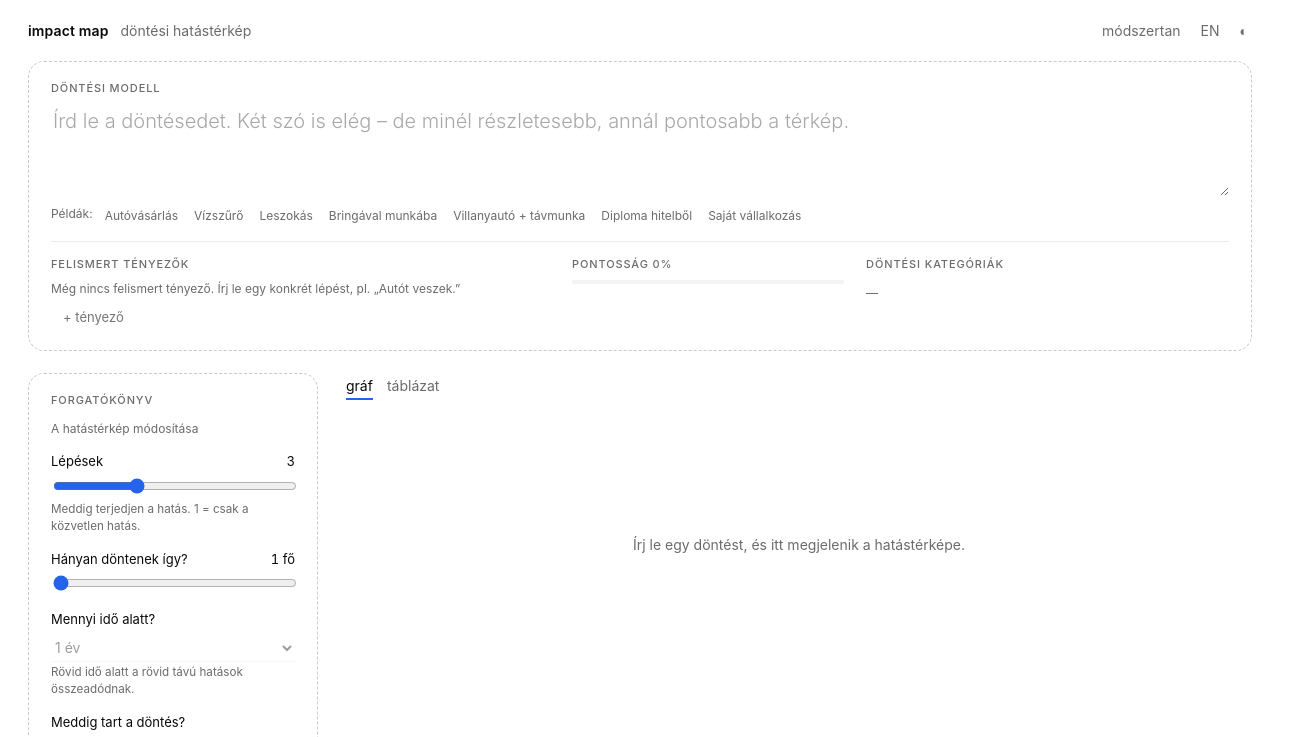
Test: App › shows the table with a change column when many people decide
Replace the text in the text box named "Döntési modell" with "Hetente háromszor edzek az edzőteremben, mert túlsúlyos lettem egy sérülés miatt.". click: (640, 150)
box: [51,104,1229,196]
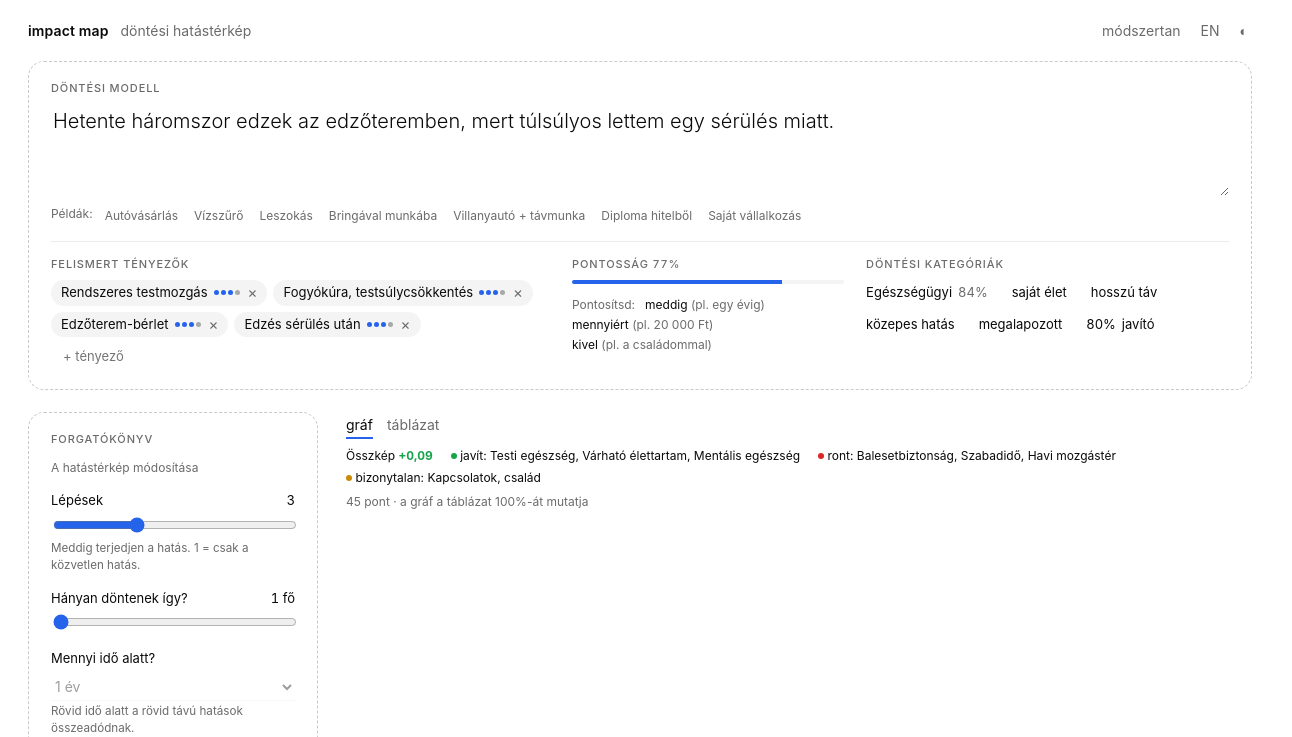
Expected: the text "Rendszeres testmozgás" is shown, [61,283,208,302]
Click the tab "táblázat". click: (413, 425)
box: [387,412,439,438]
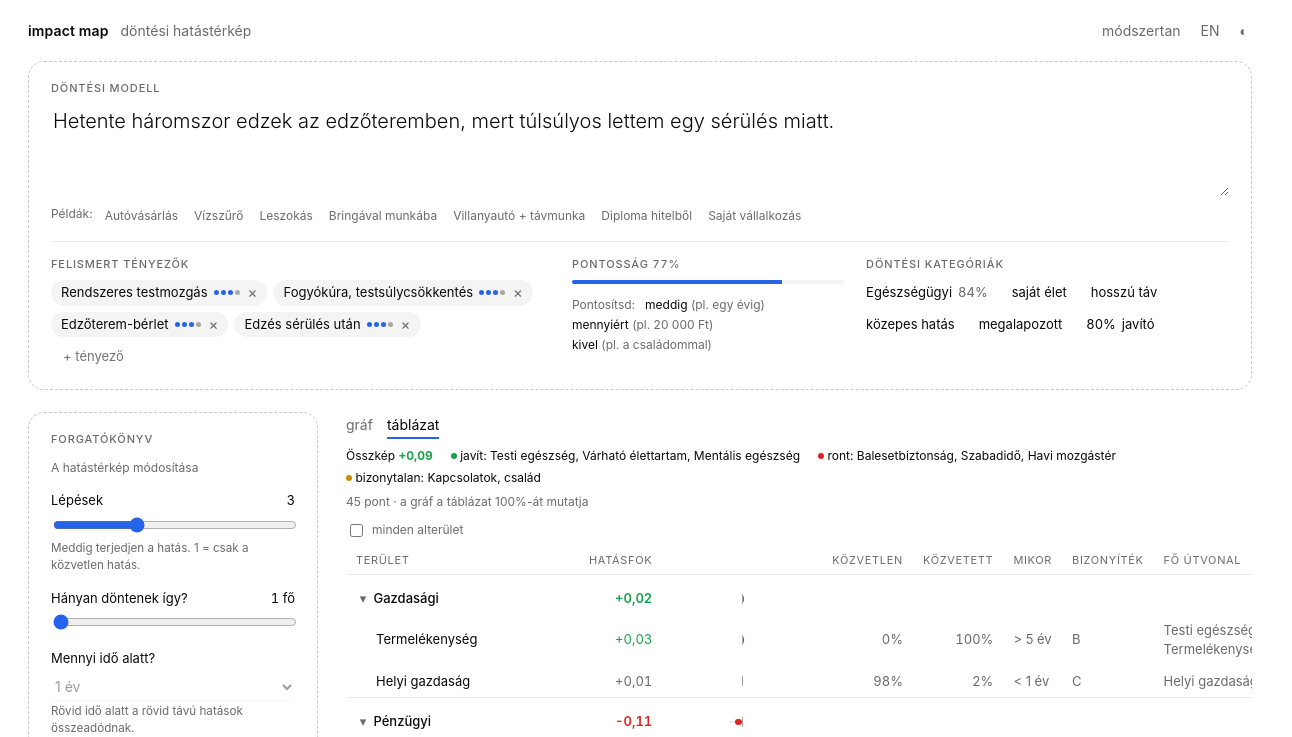
Expected: the text "Változás" is not shown
Set the slider below "Hányan döntenek így?" to "5". click: (188, 622)
box: [53,614,297,630]
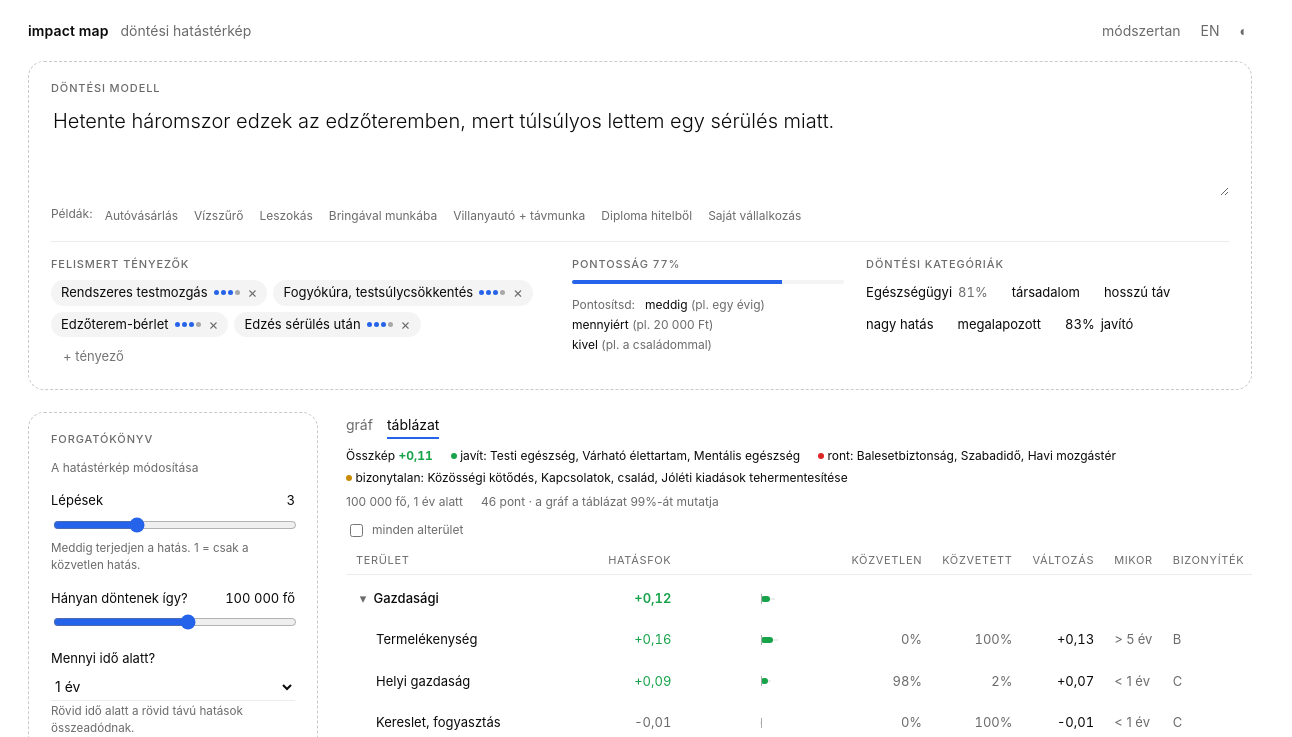
Expected: the text "100 000 fő" is shown 2 times, [225,588,295,608]; [346,492,463,510]
Expected: the column heading "Változás" is shown, [1022,546,1104,574]
